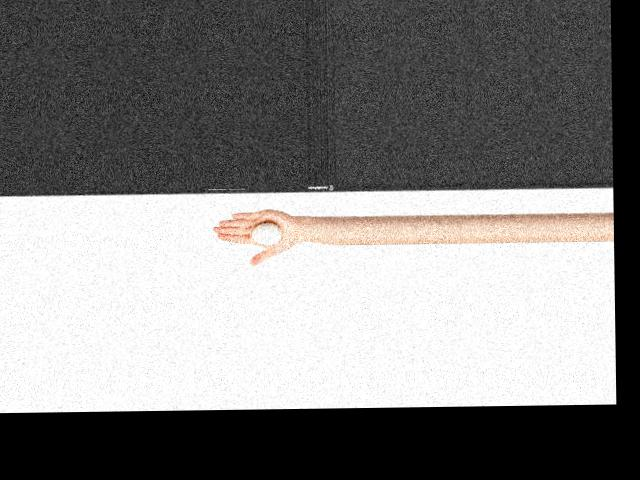egg: (251, 223, 281, 244)
